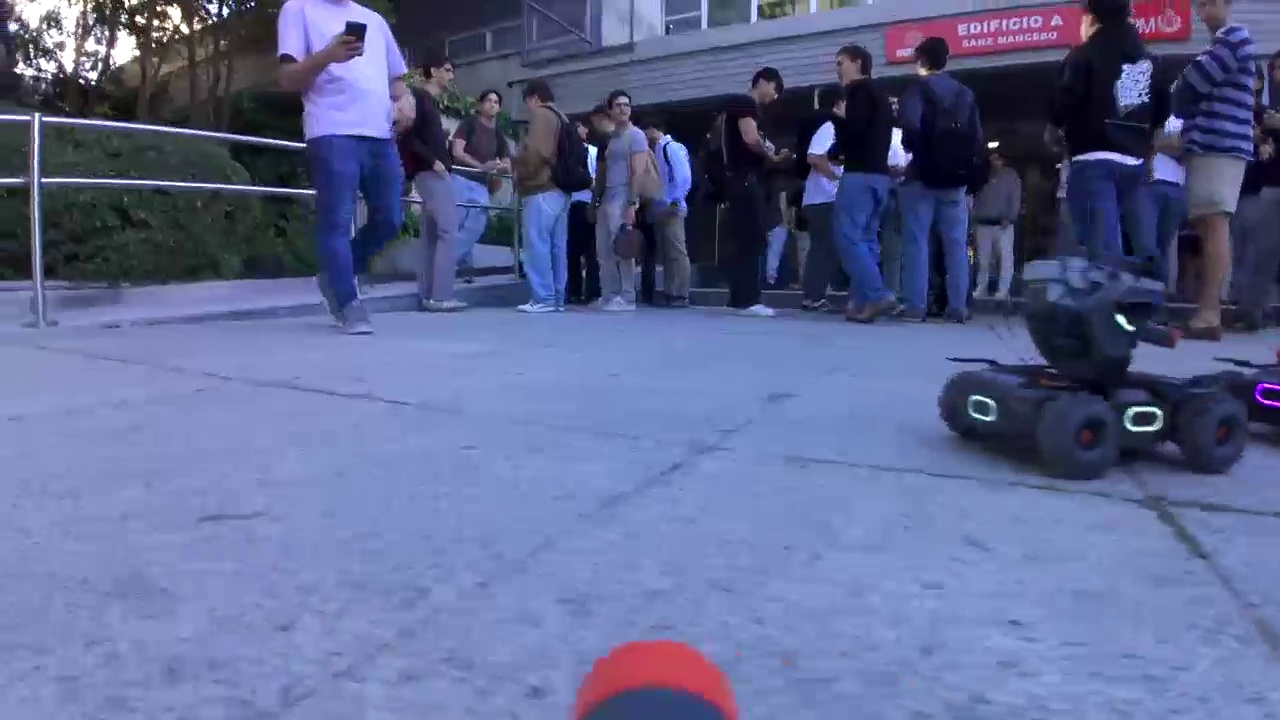robot: (937, 245, 1250, 482)
